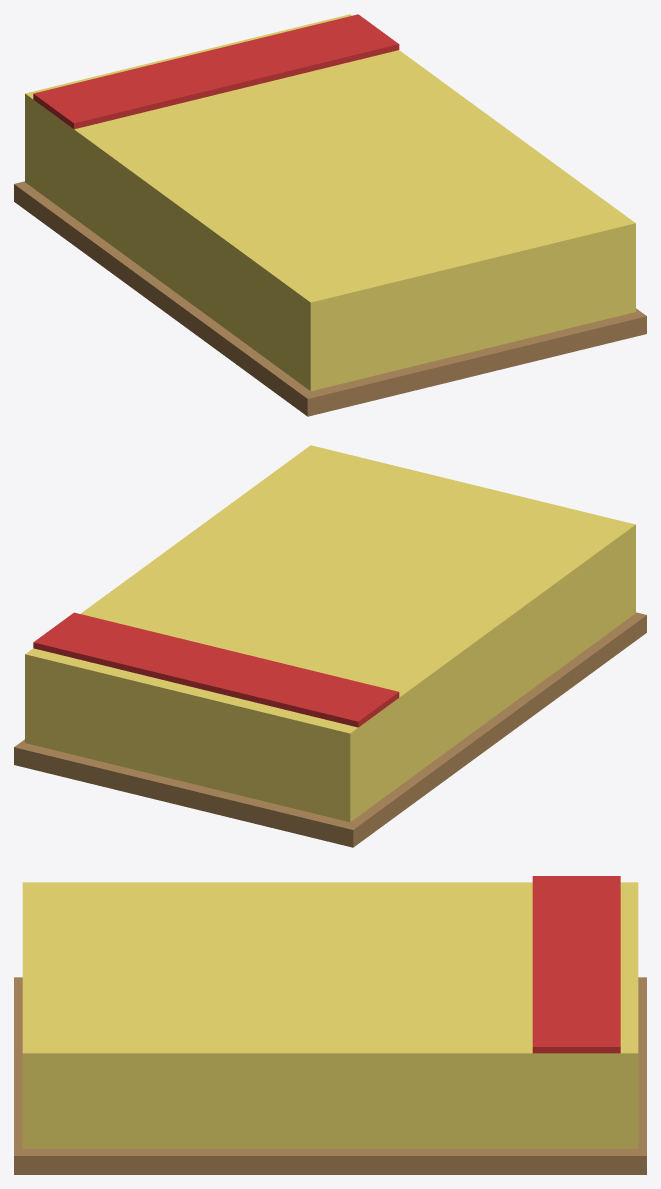
File: fines_pad.glb
The picture shows the model from 3 angles, top to bottom: view 1: azimuth 30°, elevation 25°; view 2: azimuth 150°, elevation 25°; view 3: azimuth 270°, elevation 25°; orthographic projection. The views are drawn at different scales.
Visible parts, largest first — view 1: sheets_pad_yellow, back_pad_card, stripe_pad_red; view 2: sheets_pad_yellow, back_pad_card, stripe_pad_red; view 3: sheets_pad_yellow, back_pad_card, stripe_pad_red.
Part boxes in pixels (<box>): sheets_pad_yellow: <box>25,14,635,391</box>; back_pad_card: <box>14,181,646,416</box>; stripe_pad_red: <box>33,14,399,129</box>; sheets_pad_yellow: <box>25,445,635,822</box>; back_pad_card: <box>14,612,646,847</box>; stripe_pad_red: <box>33,612,399,727</box>; sheets_pad_yellow: <box>22,882,638,1148</box>; back_pad_card: <box>14,977,646,1174</box>; stripe_pad_red: <box>532,876,620,1053</box>.
Bounding box in the file's own units: 0.12 × 0.039 × 0.18.
